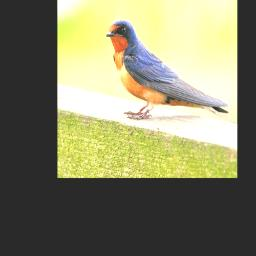Swallow: (103, 16, 230, 126)
